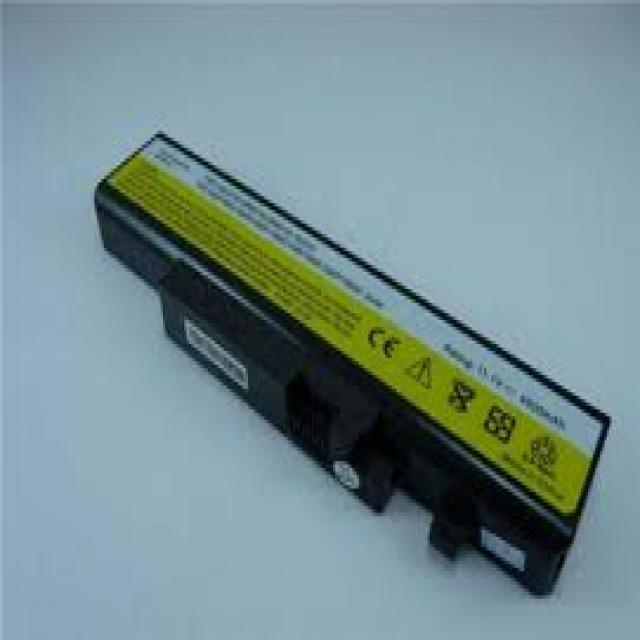battery: (91, 123, 613, 599)
